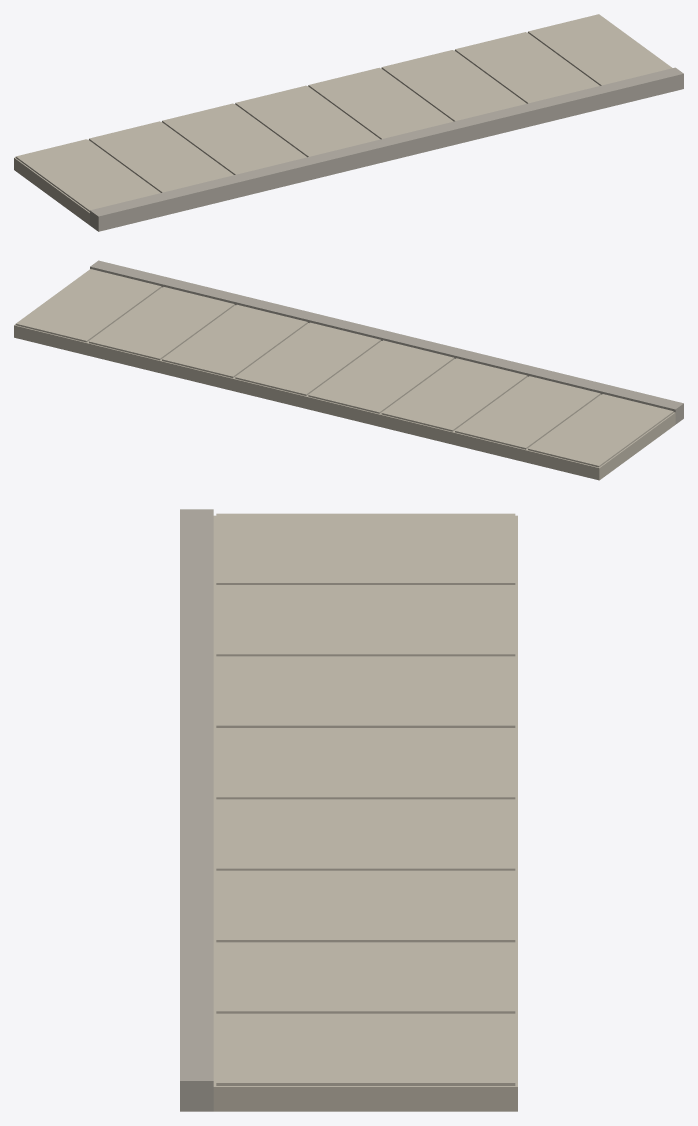
Rendered from pavement_straight.glb.
3 renders of one model, top to bottom at view 1: azimuth 30°, elevation 25°; view 2: azimuth 150°, elevation 25°; view 3: azimuth 270°, elevation 25°, orthographic. The views are drawn at different scales.
Visible parts, largest first — view 1: pavement_straight; view 2: pavement_straight; view 3: pavement_straight.
Boxes of the visible parts, x1,y1,x2,y2 form: pavement_straight: [14, 14, 683, 231]; pavement_straight: [14, 260, 683, 480]; pavement_straight: [180, 509, 517, 1111].
Bounding box in the file's own units: 8 × 0.2 × 2.
